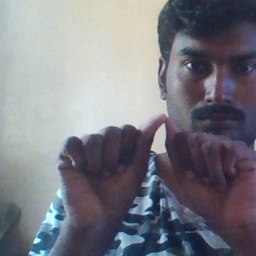A: (78, 113, 248, 218)
